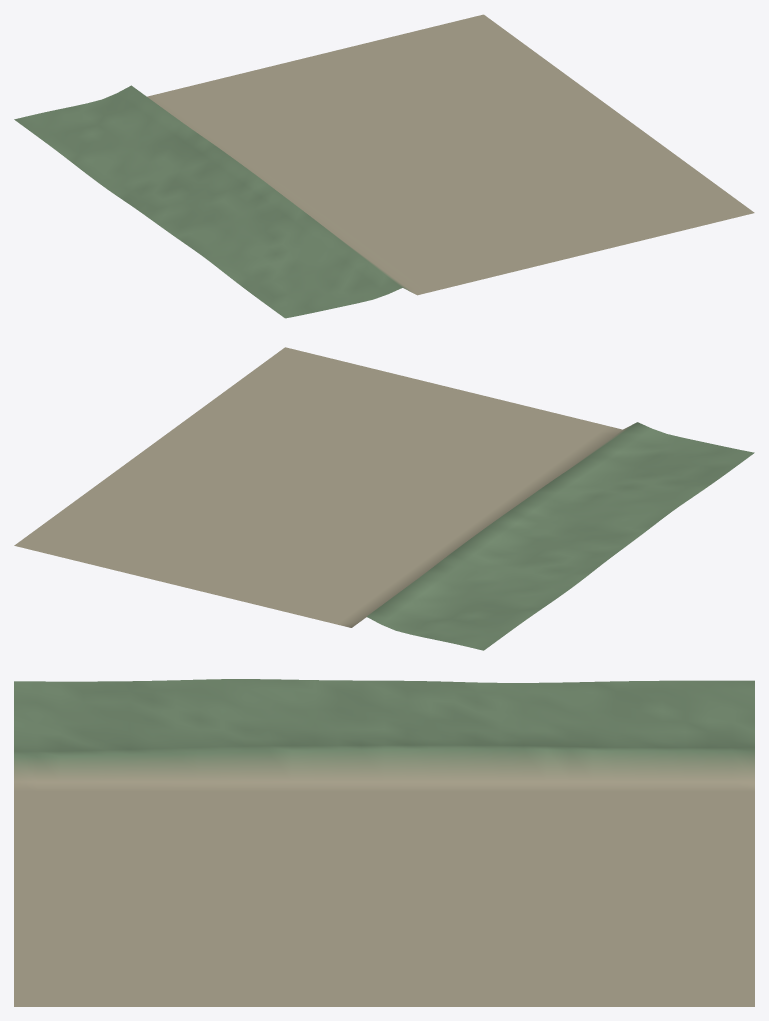
The picture shows the model from 3 angles, top to bottom: view 1: azimuth 30°, elevation 25°; view 2: azimuth 150°, elevation 25°; view 3: azimuth 270°, elevation 25°; orthographic projection. The views are drawn at different scales.
Parts seen in each view (by area): view 1: Terrain-col; view 2: Terrain-col; view 3: Terrain-col.
Part boxes in pixels (left/top/right/bottom): Terrain-col: left=14, top=14, right=754, bottom=318; Terrain-col: left=14, top=347, right=754, bottom=650; Terrain-col: left=14, top=679, right=754, bottom=1006.
Bounding box in the file's own units: 256 × 8.64 × 256.
